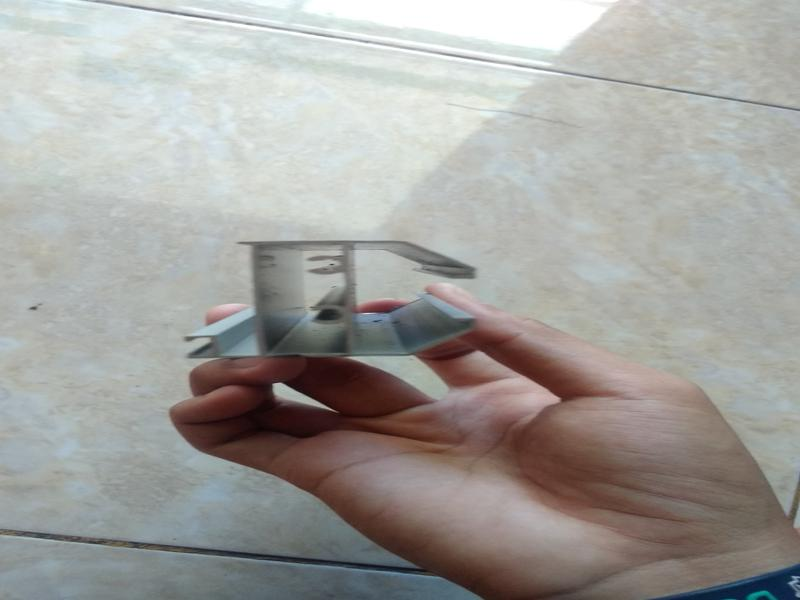Aluminium_3: (161, 223, 497, 367)
